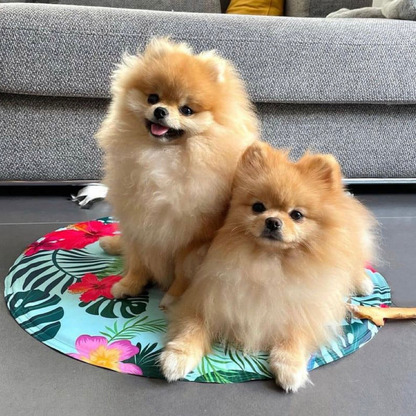Pomeranian: (216, 143, 370, 385), (102, 31, 223, 262)
